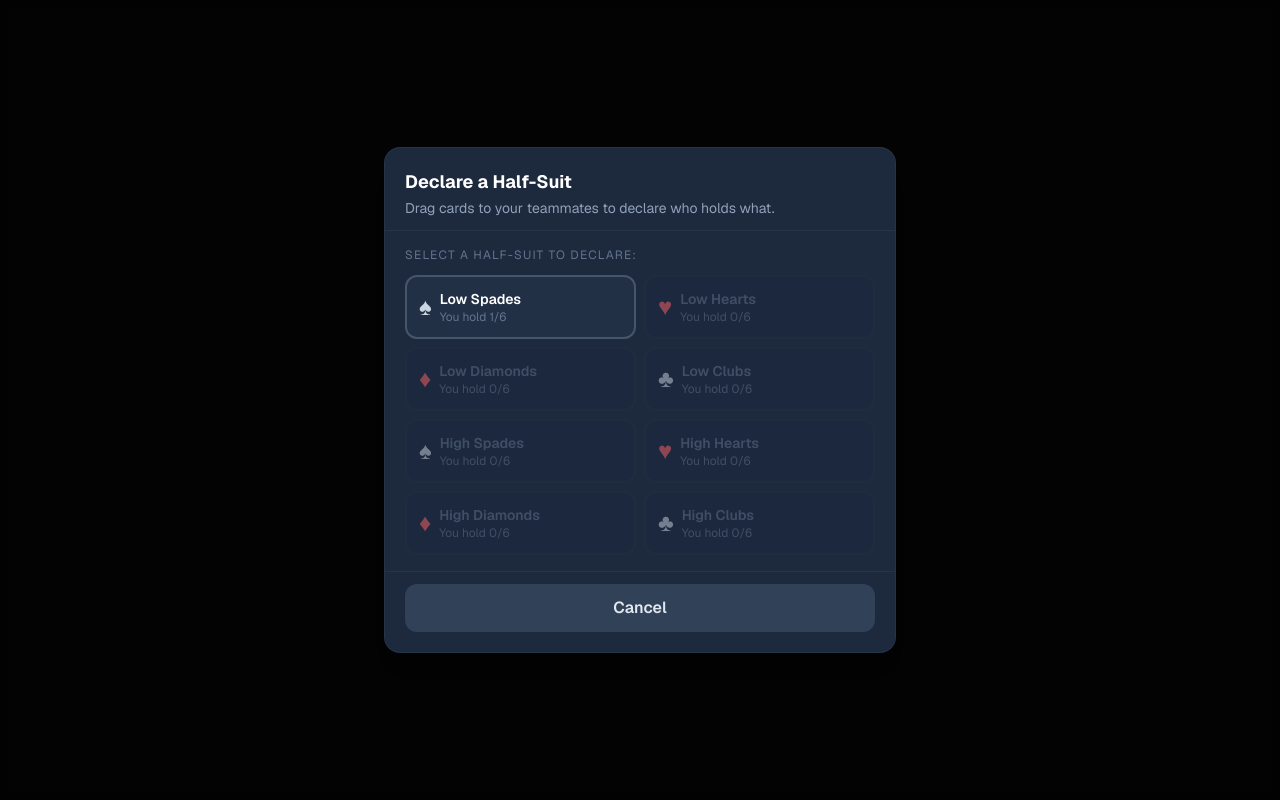
Test case: DeclareModal — tap-to-assign › tapping the same card again deselects it
Click the button "♠ Low Spades You hold 1/6" at (520, 307), box x1=405 y1=275 x2=636 y2=339
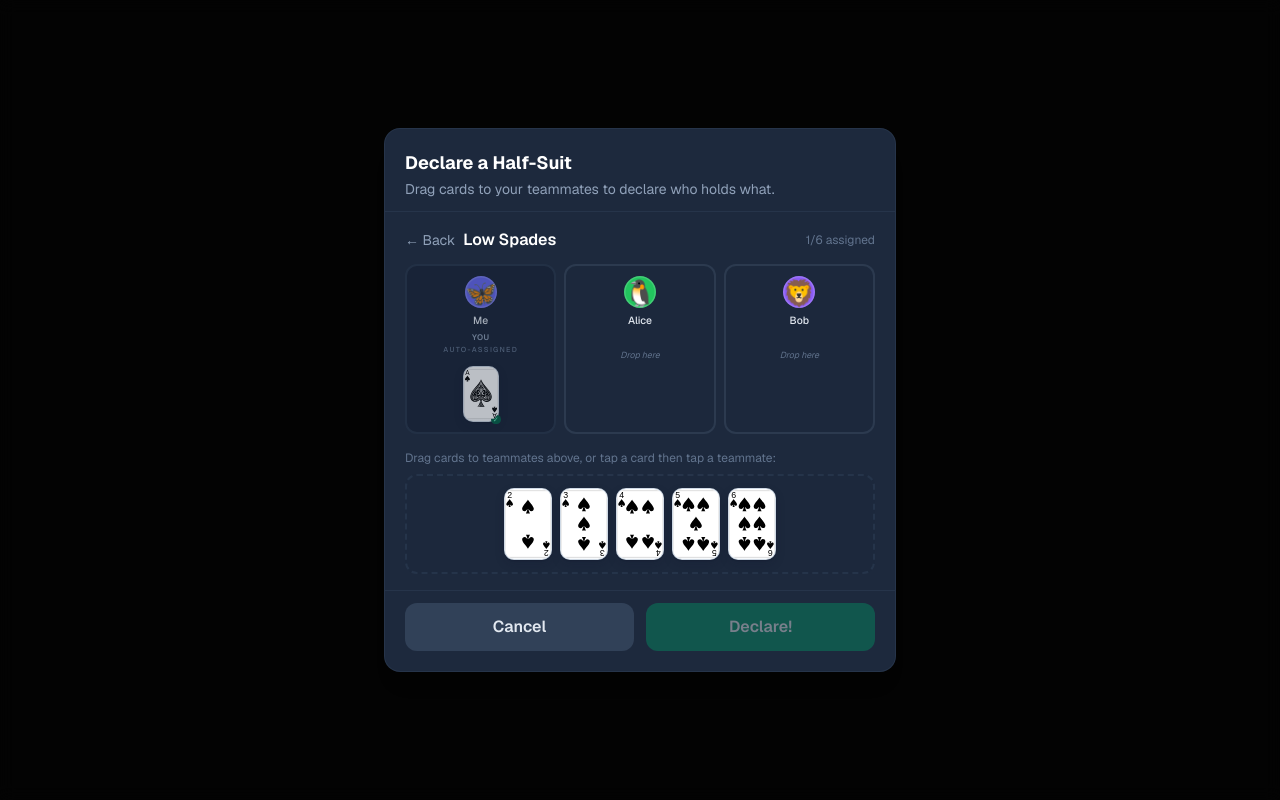
Click the button with test id "draggable-card" showing "2 ♠ ♠ 2 ♠" at (528, 524), box x1=504 y1=488 x2=552 y2=560
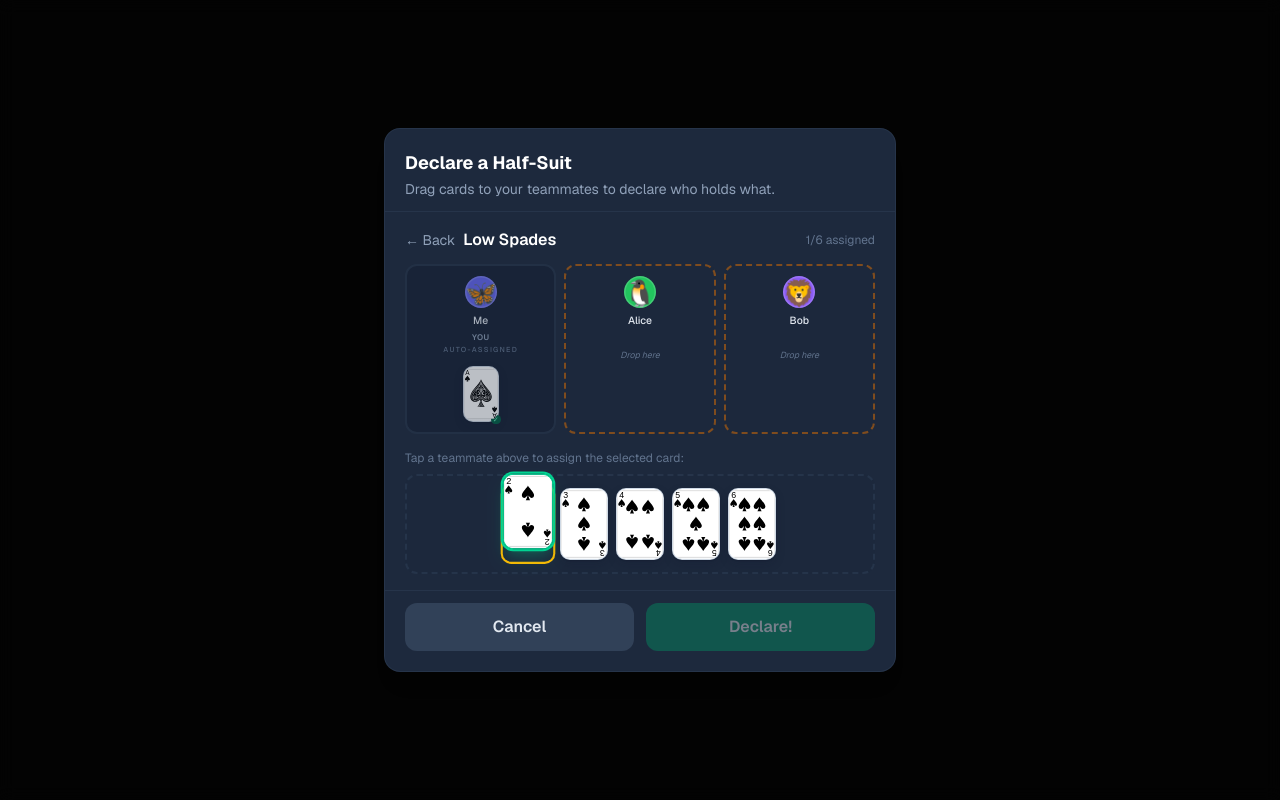
expect the text "Tap a teammate above to assign the selected card:" is shown: met, box x1=405 y1=450 x2=684 y2=466
Click the button with test id "draggable-card" showing "2 ♠ ♠ 2 ♠" at (528, 524), box x1=503 y1=486 x2=553 y2=562
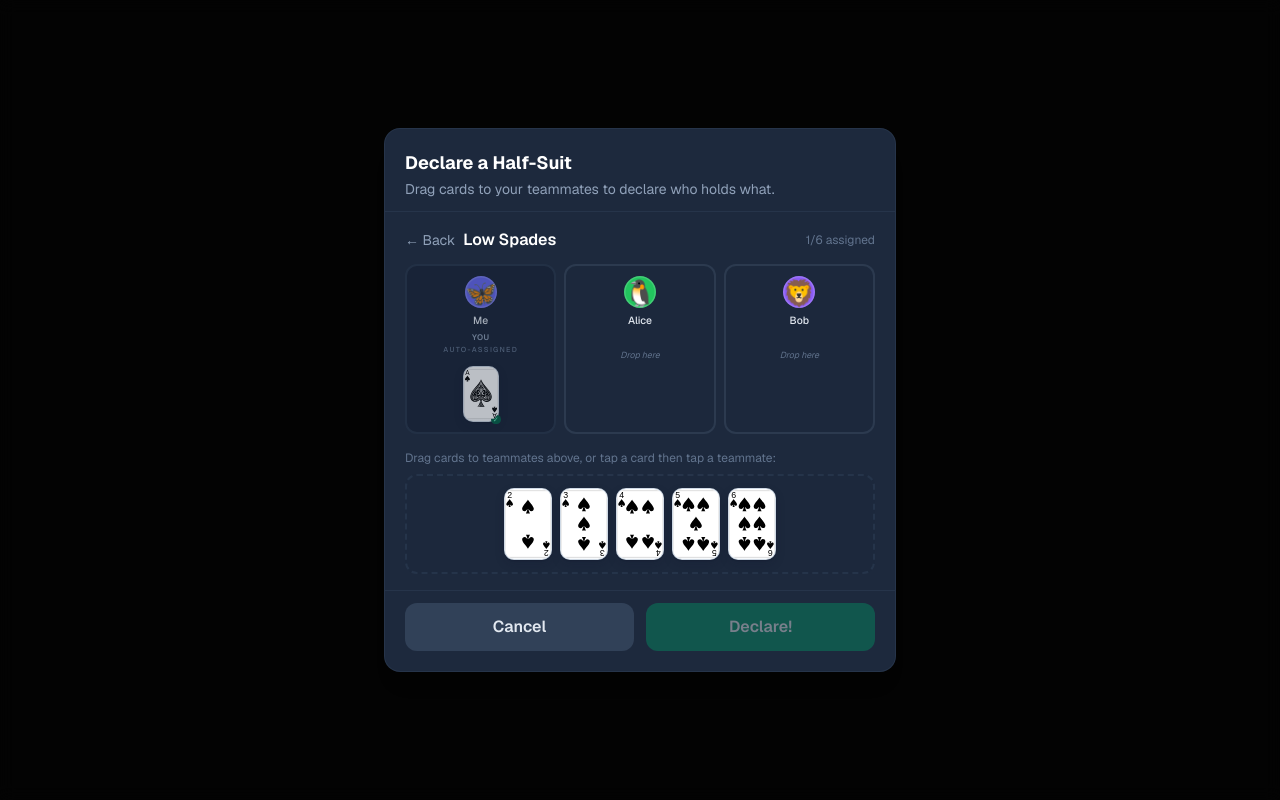
expect the text "Drag cards to teammates" is shown: met, box x1=405 y1=450 x2=776 y2=466
